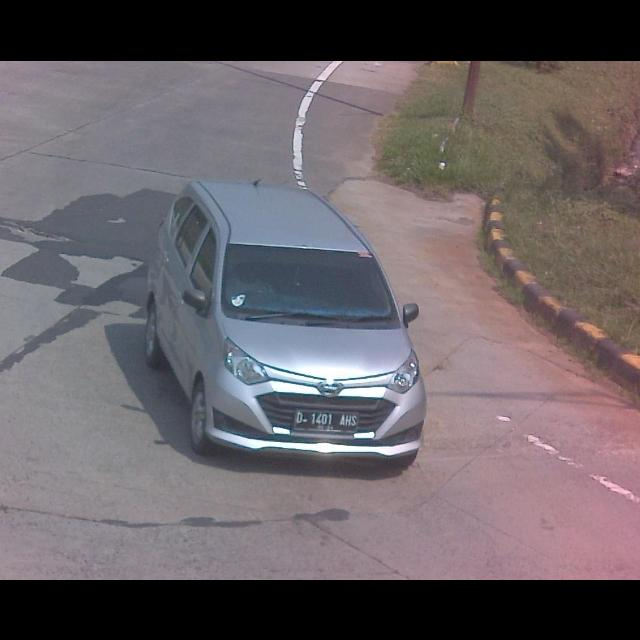plate: (292, 407, 360, 433)
